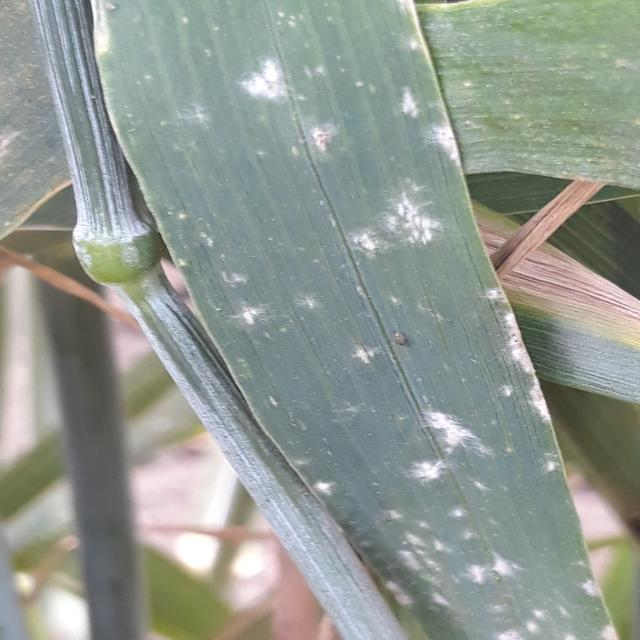powder_mildew: (80, 0, 610, 640)
